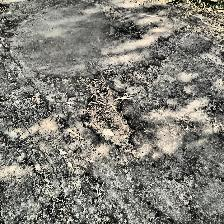pothole: (78, 70, 138, 154)
